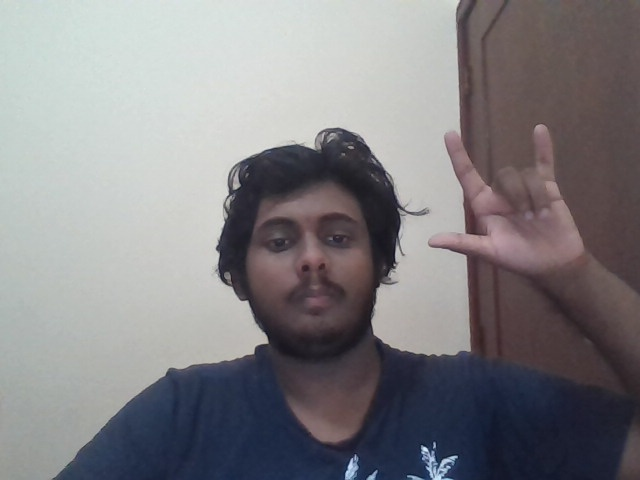iloveyou: (428, 123, 585, 280)
